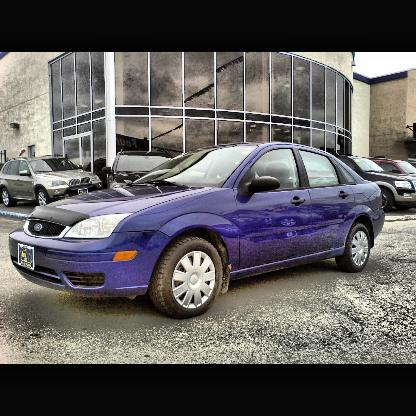Ford Focus Sedan 2007: (9, 143, 386, 318)
